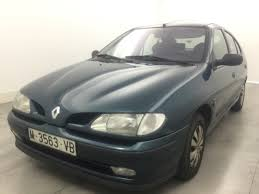car: (8, 23, 246, 188)
